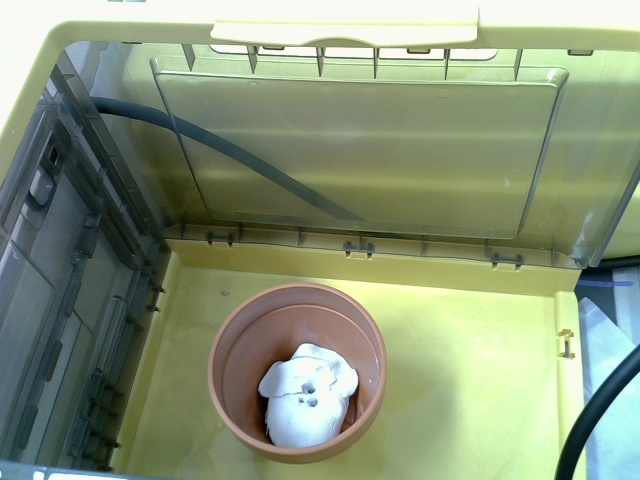화분: (207, 281, 388, 463)
